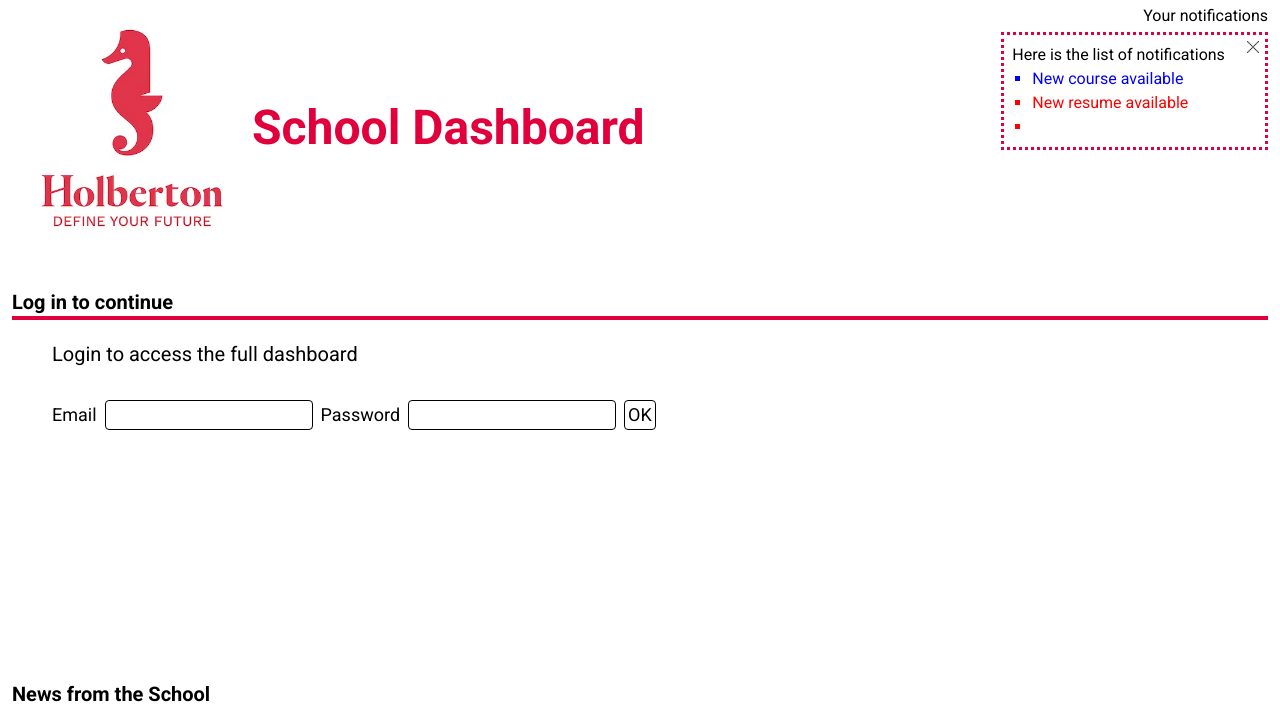
App displayDrawer default state › displays the notifications panel by default, hides it and shows it again
The width and height of the screenshot is (1280, 711).
Expected: the text "Here is the list of notifications" is shown, x1=1012 y1=43 x2=1259 y2=67
Click the button named "close" at [1253, 47], box x1=1247 y1=41 x2=1259 y2=53
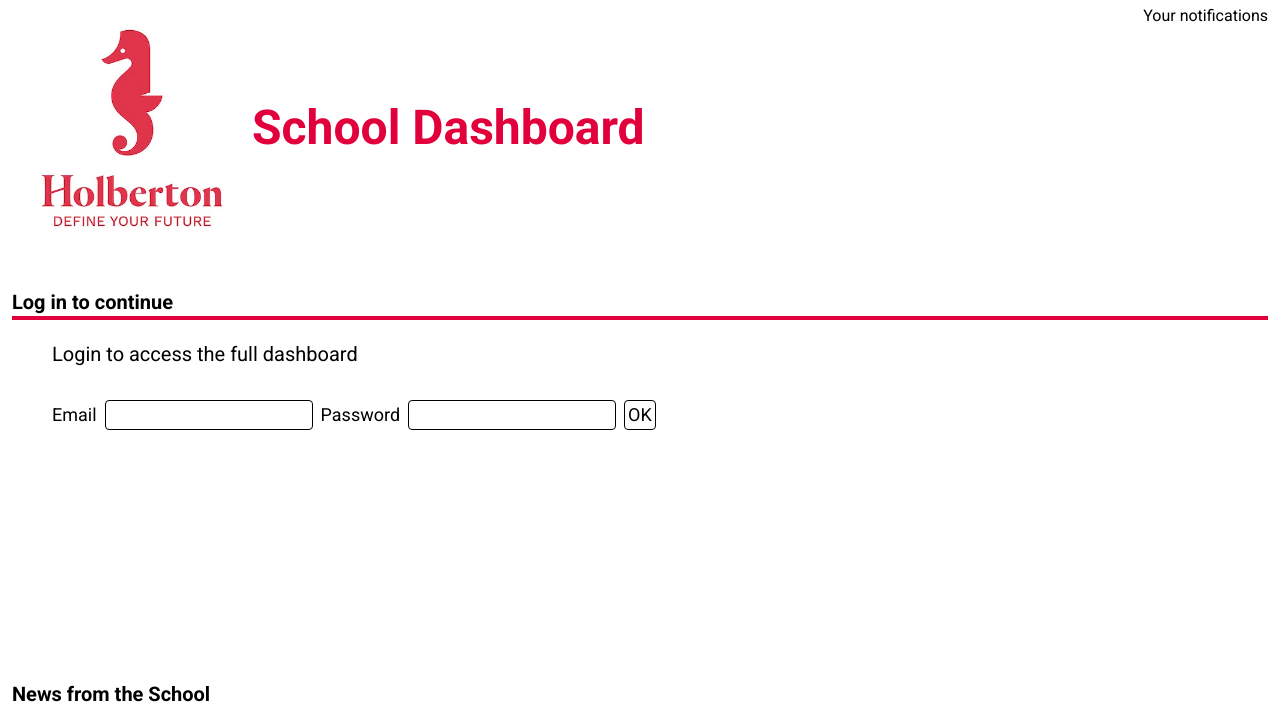
Expected: the text "Here is the list of notifications" is gone
Click the text "Your notifications" at [1206, 16], box x1=1143 y1=6 x2=1268 y2=25
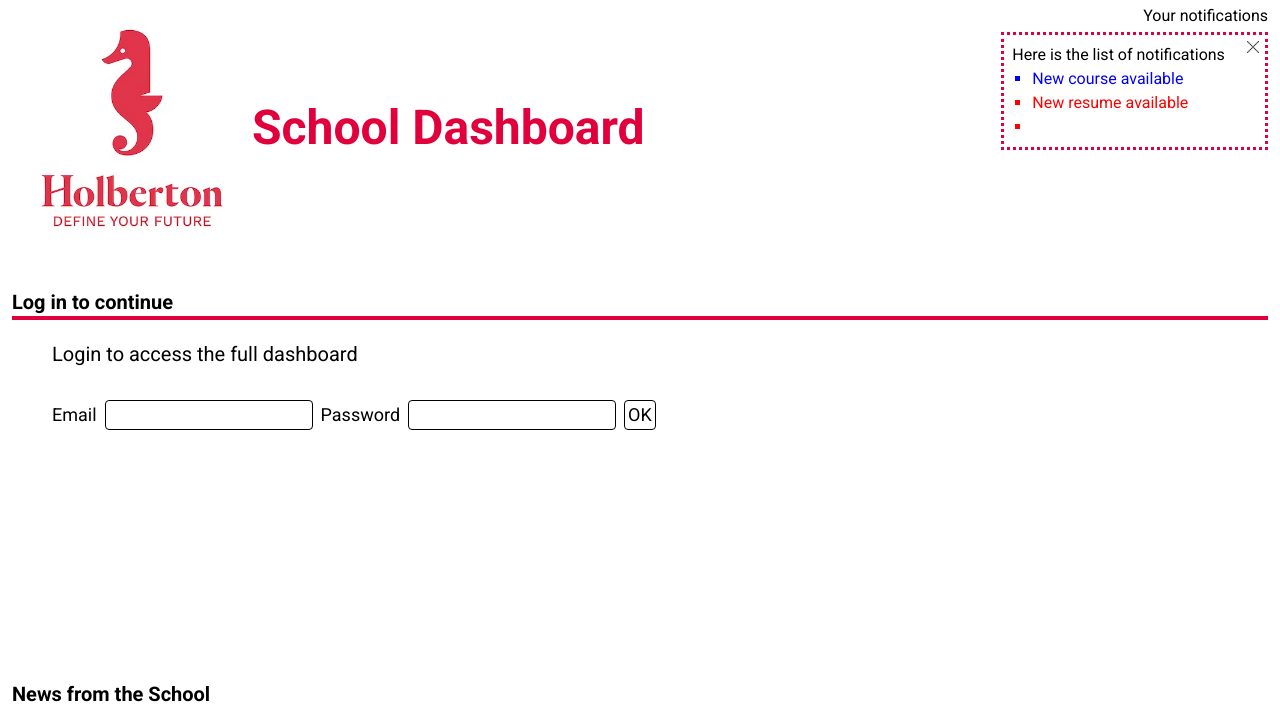
Expected: the text "Here is the list of notifications" is shown, x1=1012 y1=43 x2=1259 y2=67
